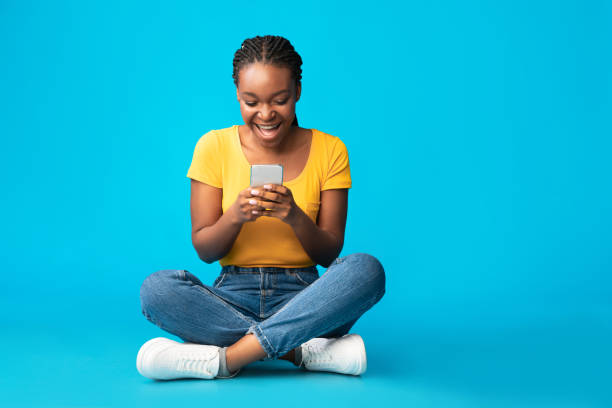without mask: (232, 36, 307, 152)
